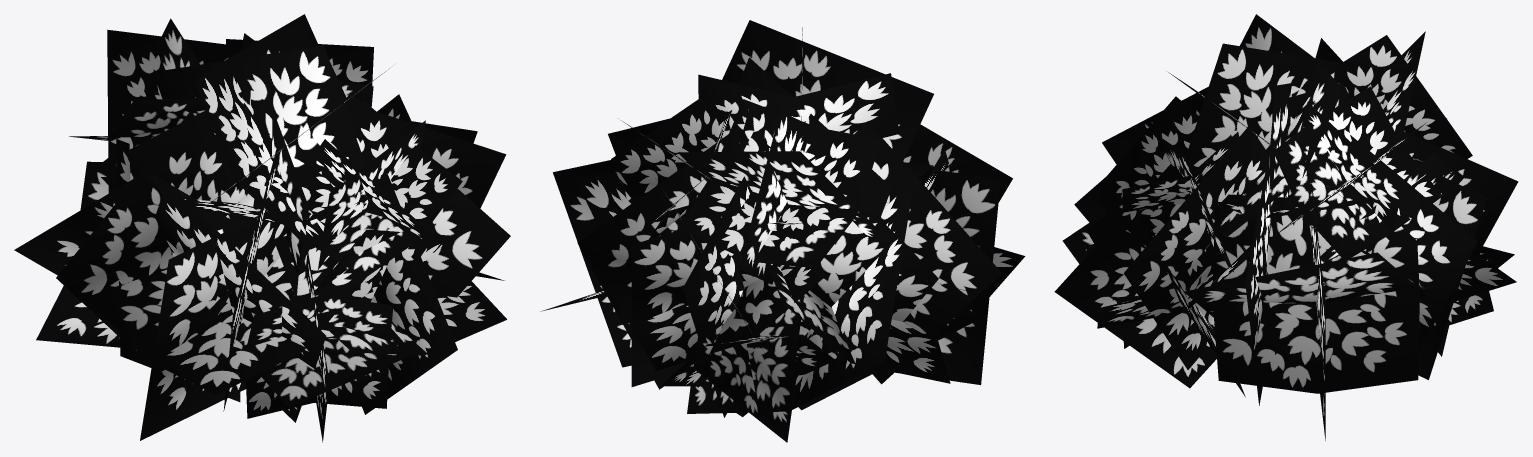
Rendered from P_Bush1_Light.obj.
3 renders of one model, left to right at view 1: azimuth 30°, elevation 25°; view 2: azimuth 150°, elevation 25°; view 3: azimuth 270°, elevation 25°, orthographic. The views are drawn at different scales.
Size of the model in its own units: 2.65 by 2.14 by 2.57.
